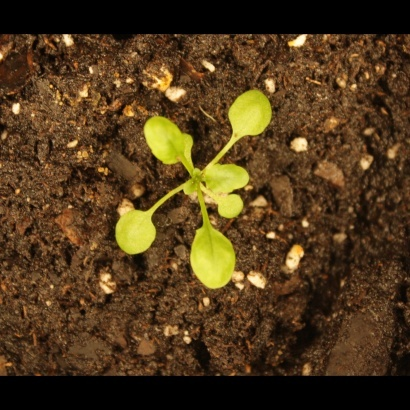leaf: (187, 222, 241, 298), (106, 202, 164, 259), (226, 82, 275, 145), (141, 112, 189, 170), (200, 161, 252, 196), (216, 192, 247, 220), (179, 124, 202, 156)
